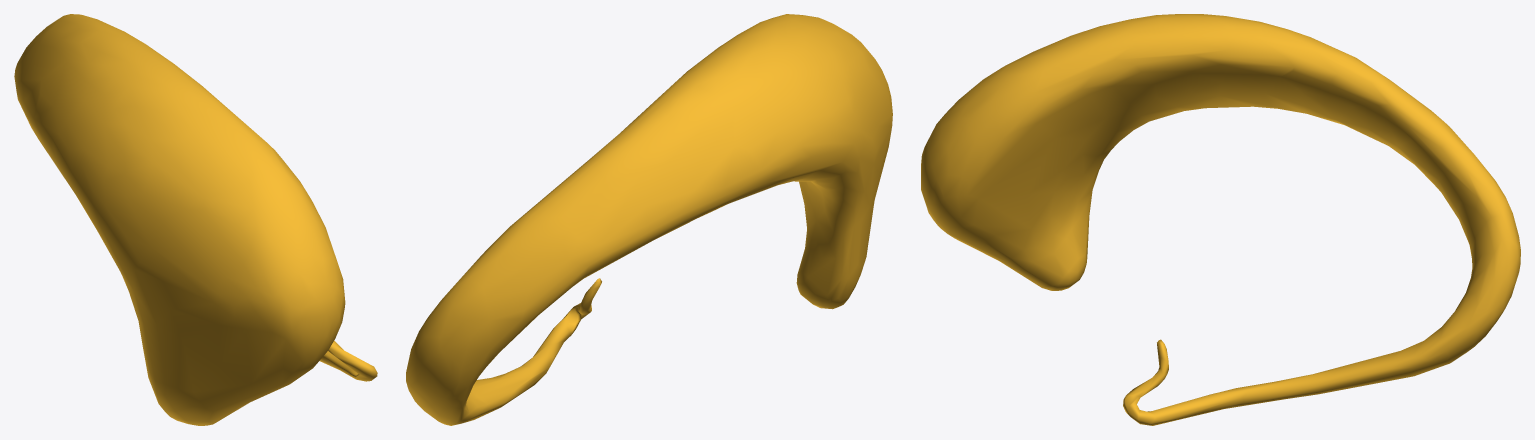
File: nervoso-caudate-nucleus-l.glb
3 renders of one model, left to right at view 1: azimuth 30°, elevation 25°; view 2: azimuth 150°, elevation 25°; view 3: azimuth 270°, elevation 25°, orthographic. The views are drawn at different scales.
Parts seen in each view (by area): view 1: Caudate nucleus.l; view 2: Caudate nucleus.l; view 3: Caudate nucleus.l.
Boxes of the visible parts, box(x1,y1,x2,y2) form: Caudate nucleus.l: box(14, 14, 377, 425); Caudate nucleus.l: box(406, 14, 892, 425); Caudate nucleus.l: box(921, 14, 1520, 425).
Bounding box in the file's own units: 0.0308 × 0.0359 × 0.0616.
